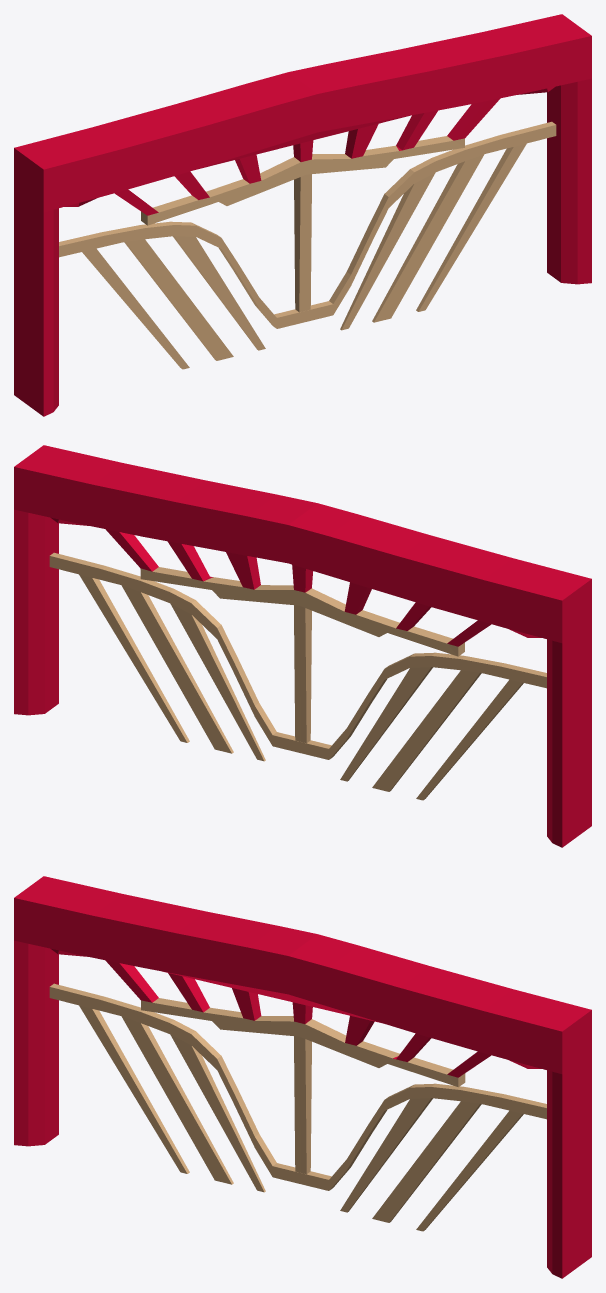
The model's file is zabradliremodeled.fbx.
3 renders of one model, top to bottom at view 1: azimuth 30°, elevation 25°; view 2: azimuth 150°, elevation 25°; view 3: azimuth 330°, elevation 25°, orthographic.
Parts seen in each view (by area): view 1: Cube.002; view 2: Cube.002; view 3: Cube.002.
Part boxes in pixels (x1,y1,x2,y2): Cube.002: (14, 14, 591, 416); Cube.002: (14, 445, 591, 847); Cube.002: (14, 876, 591, 1278).
Bounding box in the file's own units: 237 × 106 × 22.33.
